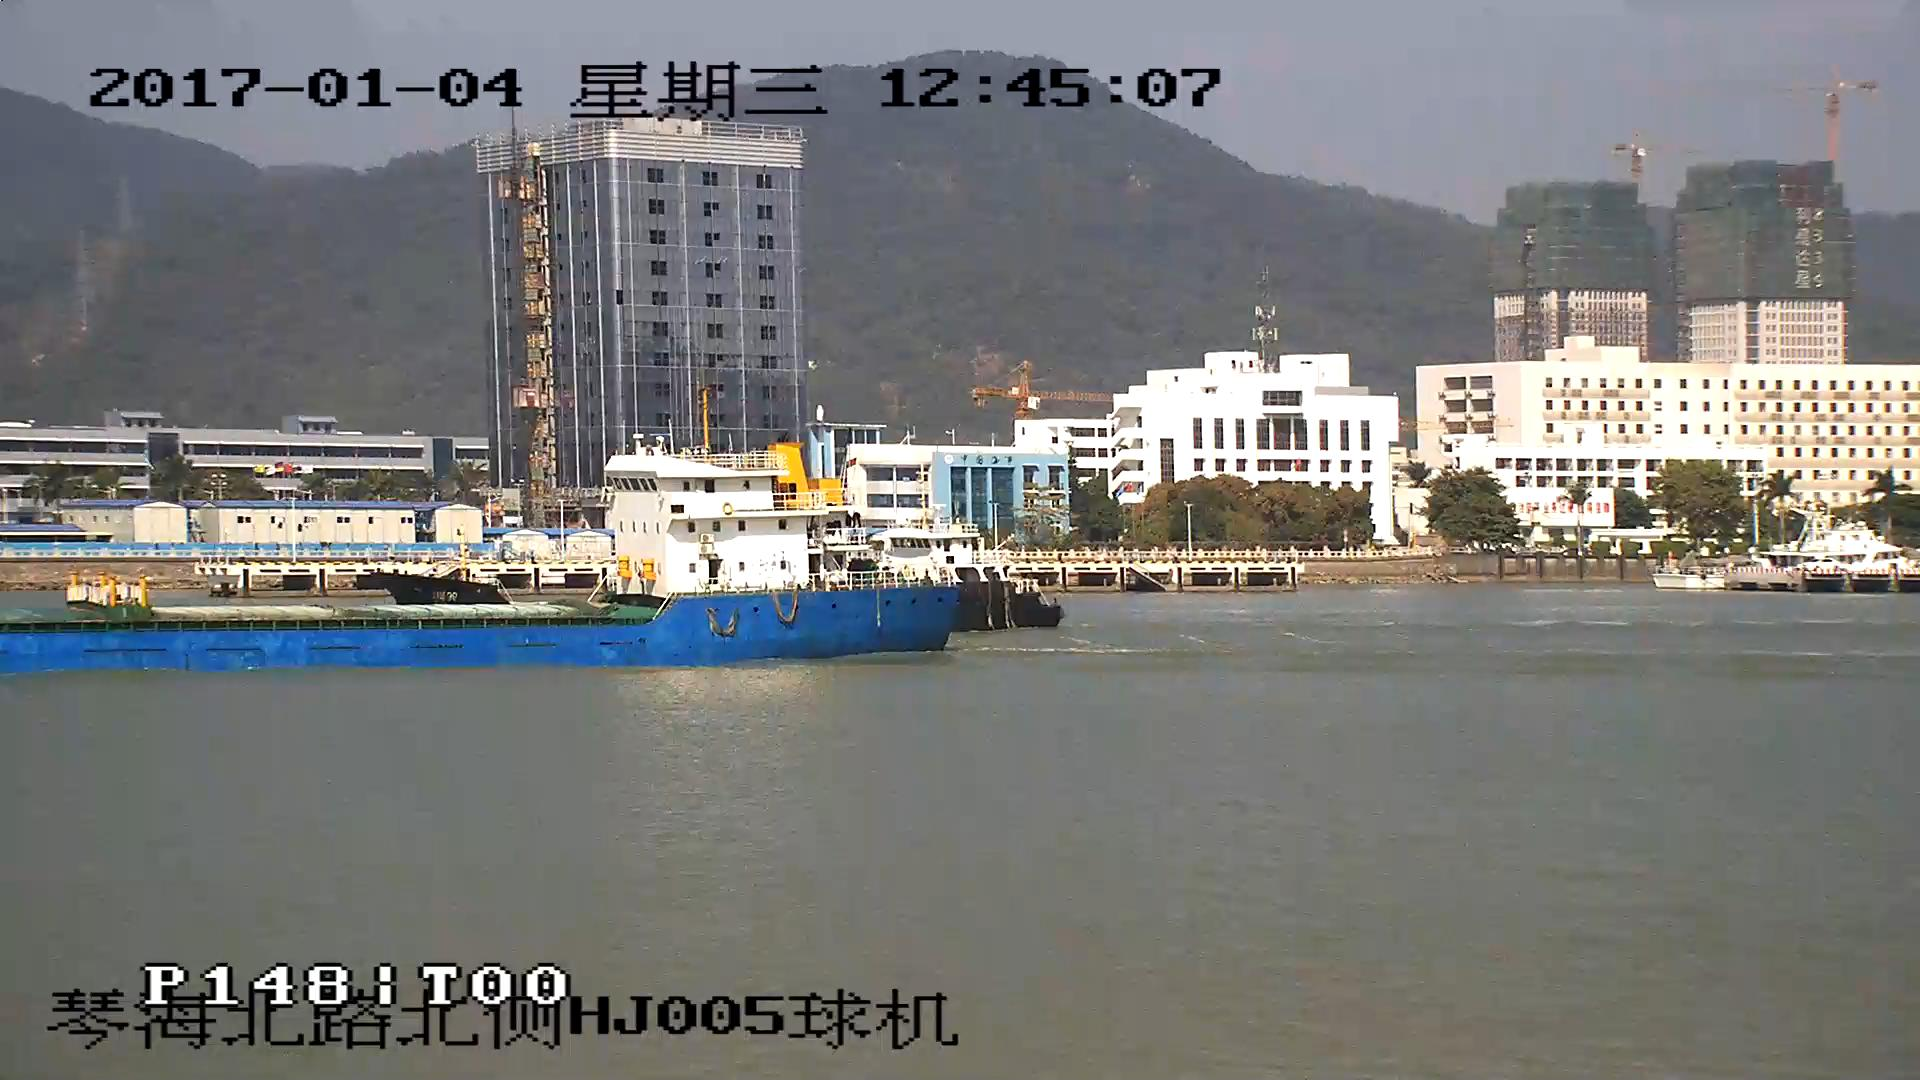general cargo ship: (1, 442, 965, 672)
